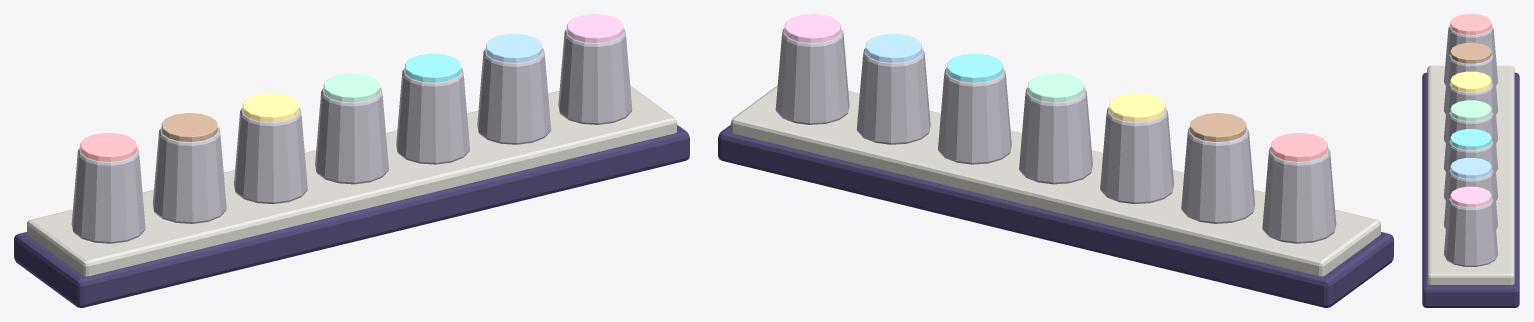
Rendered from pearl_paint_rack.glb.
3 views of the same model, side by side, from view 1: azimuth 30°, elevation 25°; view 2: azimuth 150°, elevation 25°; view 3: azimuth 270°, elevation 25° (orthographic). The views are drawn at different scales.
Parts seen in each view (by area): view 1: pearl_paint_rack.001; view 2: pearl_paint_rack.001; view 3: pearl_paint_rack.001.
Boxes of the visible parts, bbox=[...] form: pearl_paint_rack.001: bbox=[14, 14, 689, 307]; pearl_paint_rack.001: bbox=[718, 14, 1393, 307]; pearl_paint_rack.001: bbox=[1422, 14, 1519, 307].
Bounding box in the file's own units: 12.4 × 2.45 × 2.35.
